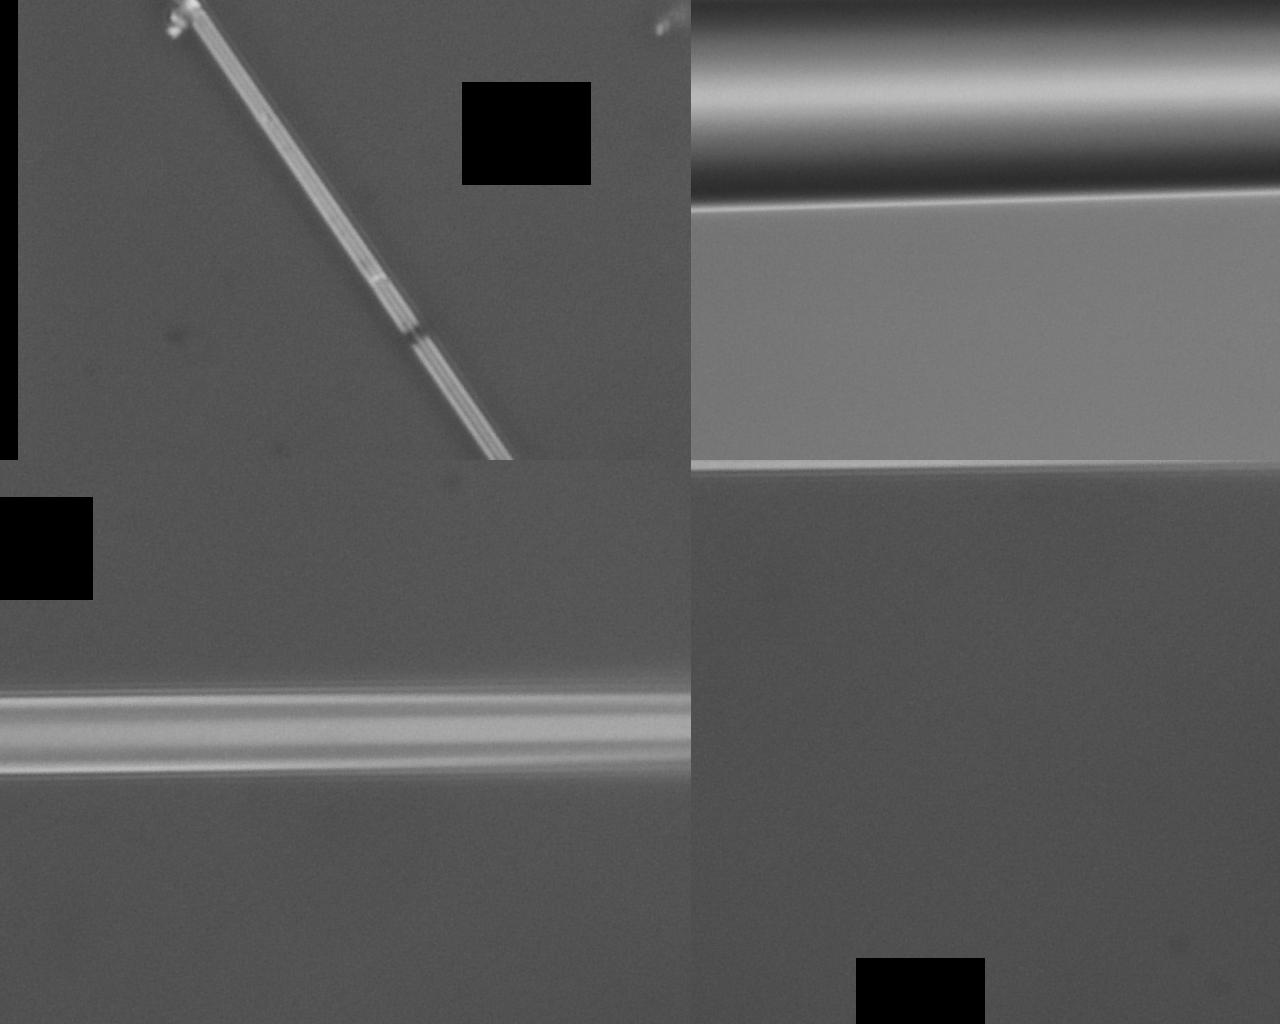fiber: (432, 389, 768, 1024), (0, 11, 768, 217), (768, 389, 993, 718)
